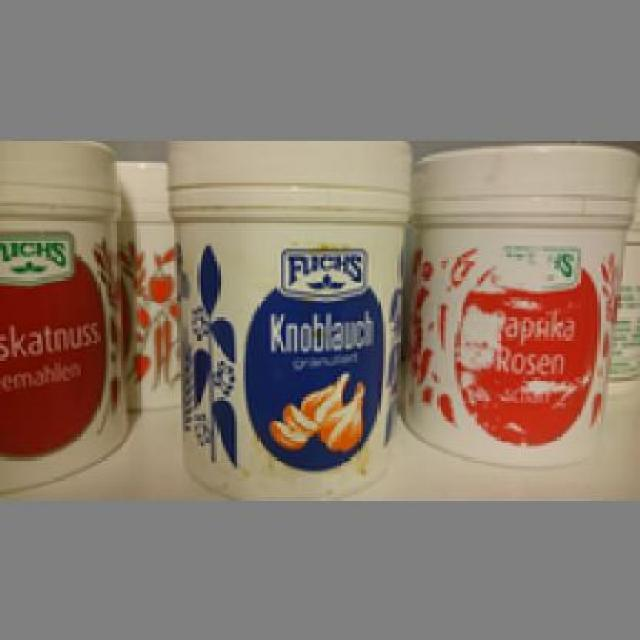Spices: (165, 137, 408, 494), (400, 143, 637, 466), (0, 140, 126, 486)
